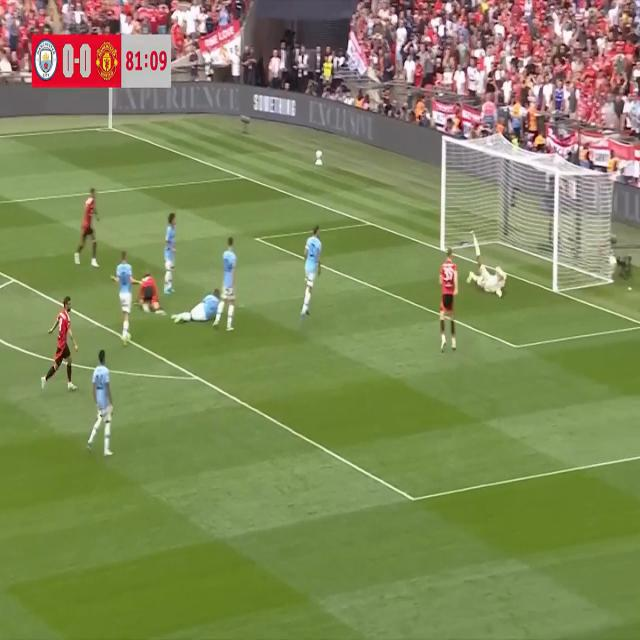ball: (607, 245, 622, 276)
goal_keeper: (464, 228, 511, 306)
players: (106, 239, 149, 346), (38, 294, 82, 397), (84, 347, 118, 458), (68, 184, 104, 280), (170, 280, 227, 338), (436, 244, 463, 354), (296, 218, 324, 320), (215, 228, 237, 341), (160, 206, 182, 303), (136, 266, 168, 320)
